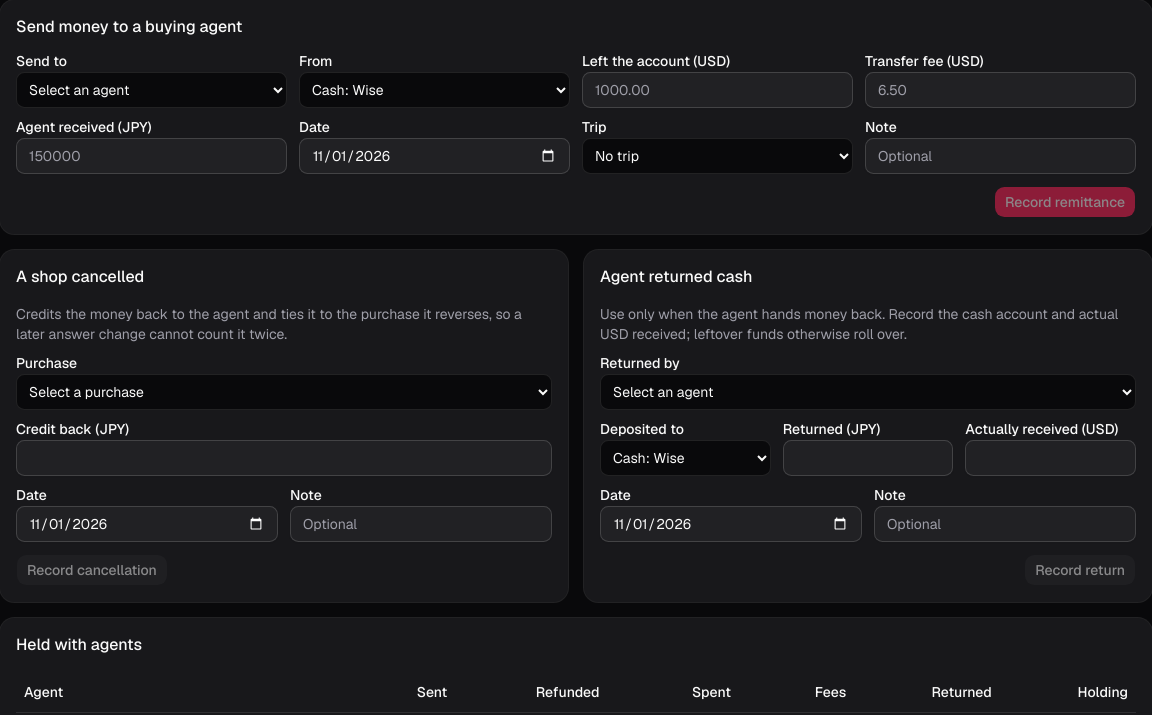
BuyerFloatView › surfaces a refund mutation failure
This screenshot has width=1152, height=715.
Check: the dropdown labelled "Send to" is enabled, box [16,72,287,108]
Select "リザードン - cardrush - 1x - ¥40,000 left (agent@example.com)" in the dropdown labelled "Purchase" at (284, 392), box [16,374,552,410]
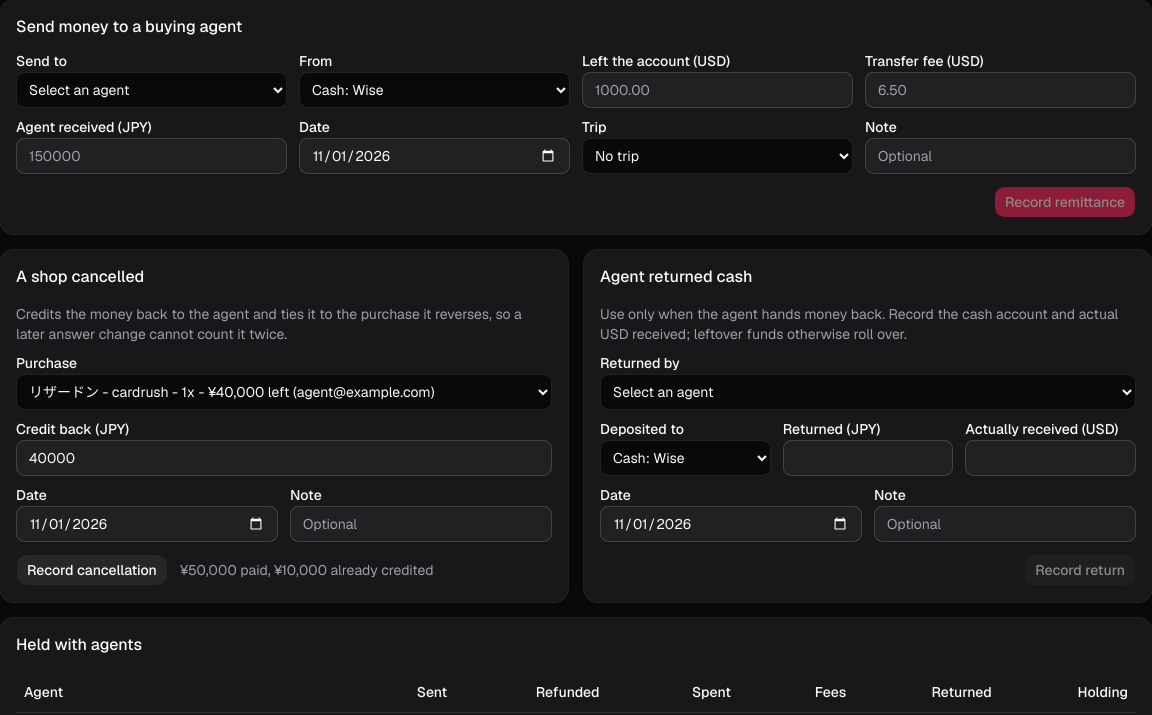
Click the button "Record cancellation".
click(92, 570)  # box [16,554,168,586]
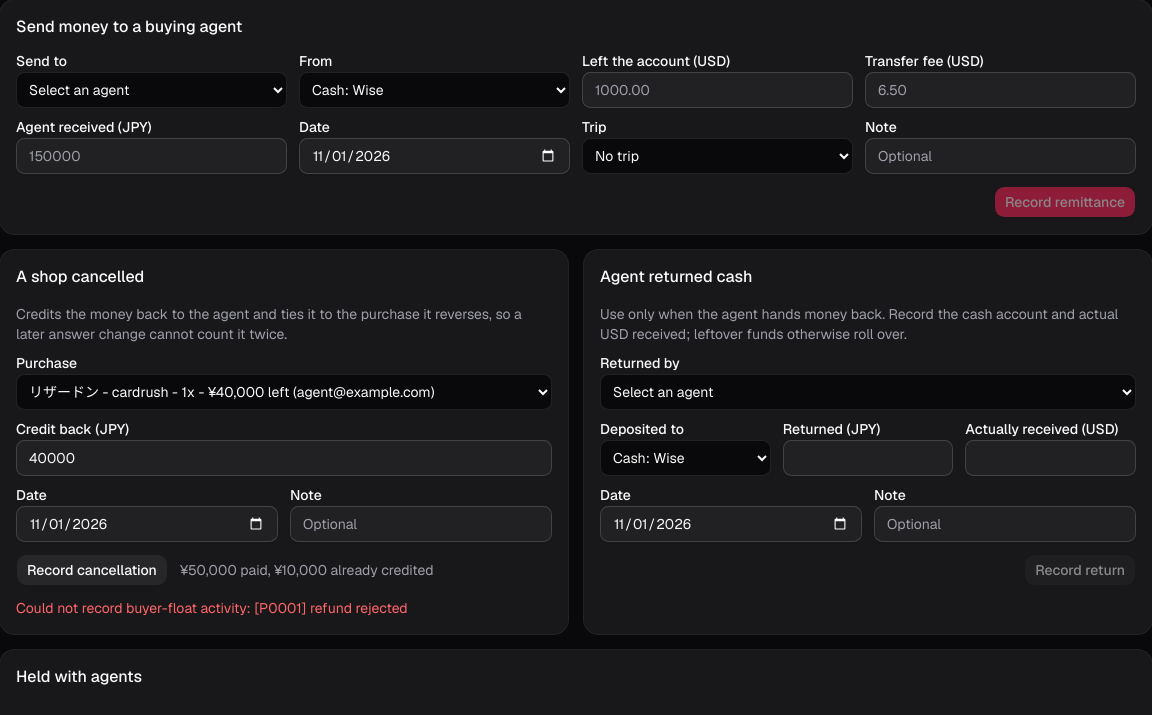
Check: the message shows "refund rejected", box [16,599,408,617]
Check: the text "A shop cancelled" shows "refund rejected", box [16,599,408,617]
